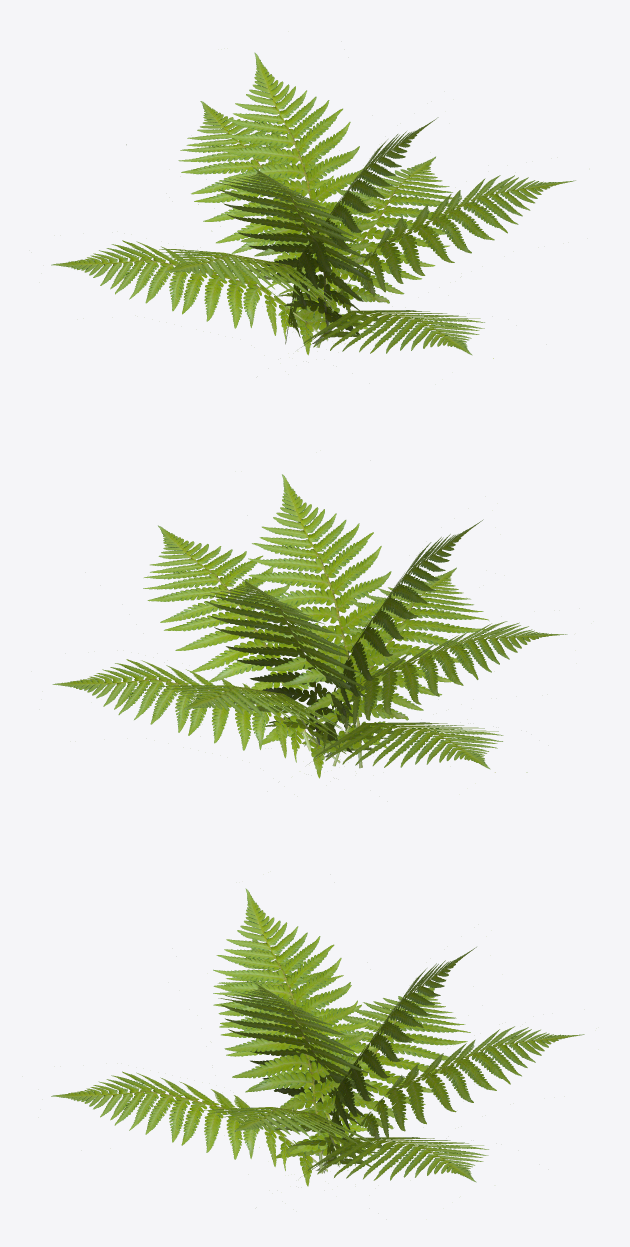
File: fern2.FBX
The picture shows the model from 3 angles, top to bottom: view 1: azimuth 30°, elevation 25°; view 2: azimuth 150°, elevation 25°; view 3: azimuth 270°, elevation 25°; orthographic projection. The views are drawn at different scales.
Parts seen in each view (by area): view 1: fern2; view 2: fern2; view 3: fern2.
Boxes of the visible parts, bbox=[...] form: fern2: bbox=[51, 52, 575, 358]; fern2: bbox=[52, 474, 567, 778]; fern2: bbox=[51, 888, 584, 1186].
Bounding box in the file's own units: 4.37 × 1.95 × 4.23.
